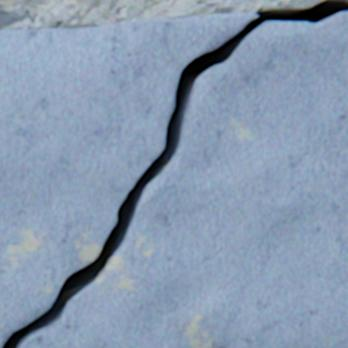broken_brick: (16, 12, 347, 347), (0, 14, 256, 347)
crack: (2, 0, 347, 347)
